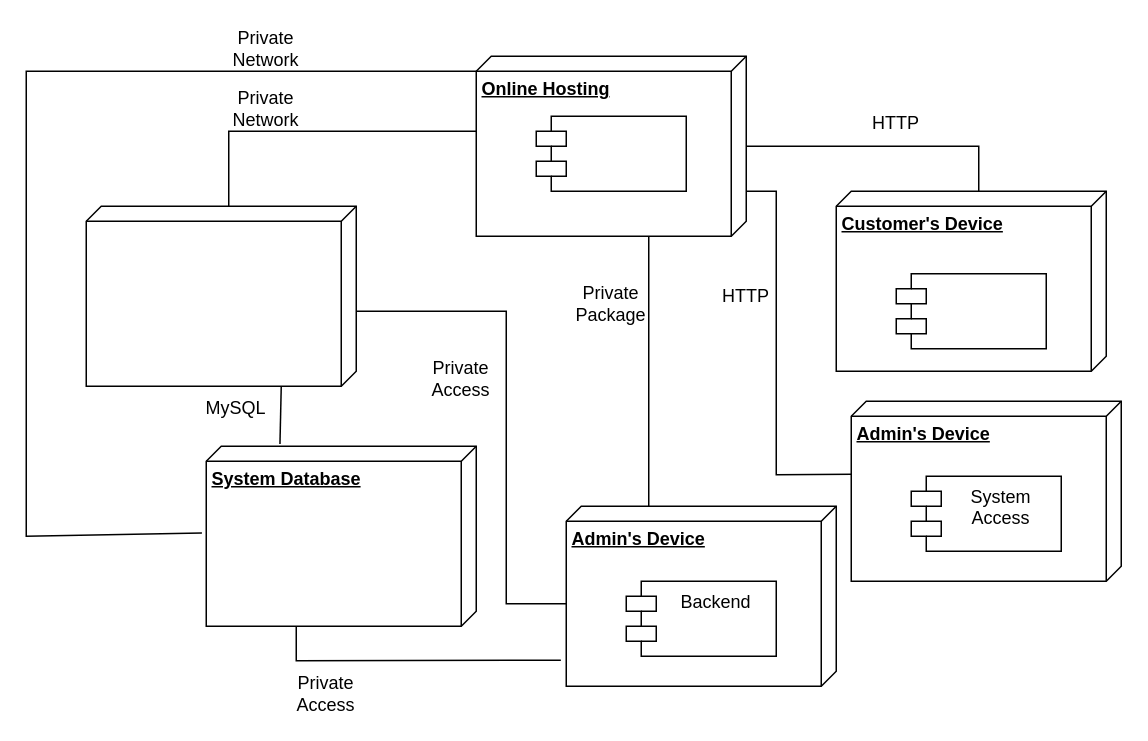
This 1148x741 diagram has some shape labels left out. Each missing label, with the centre of its shape:
"Customer's Interface" goes at point 970,310.
"Restaurant Management System ( Softeware )" goes at point 220,295.
"Server" goes at point 610,153.
